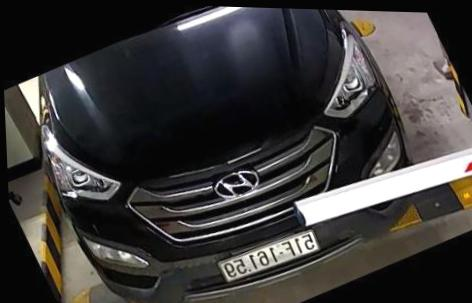License_Plate: (215, 226, 322, 296)
